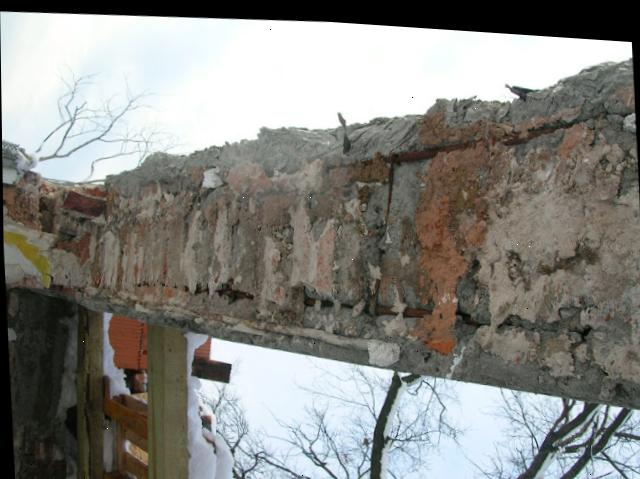spalling: (7, 55, 640, 411)
